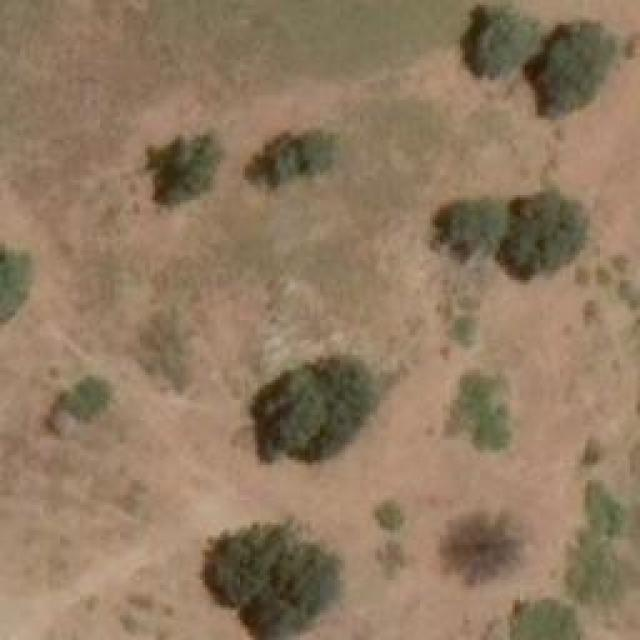Tree: (203, 522, 333, 640), (245, 355, 375, 463), (535, 20, 610, 113), (502, 190, 580, 275), (245, 130, 333, 190), (560, 538, 635, 604), (150, 135, 220, 205), (435, 195, 508, 258), (465, 10, 535, 75), (447, 373, 505, 448), (50, 380, 103, 433), (503, 600, 573, 640), (583, 480, 633, 536), (0, 243, 31, 333), (375, 500, 400, 525)
